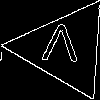V: (40, 23, 81, 71)
